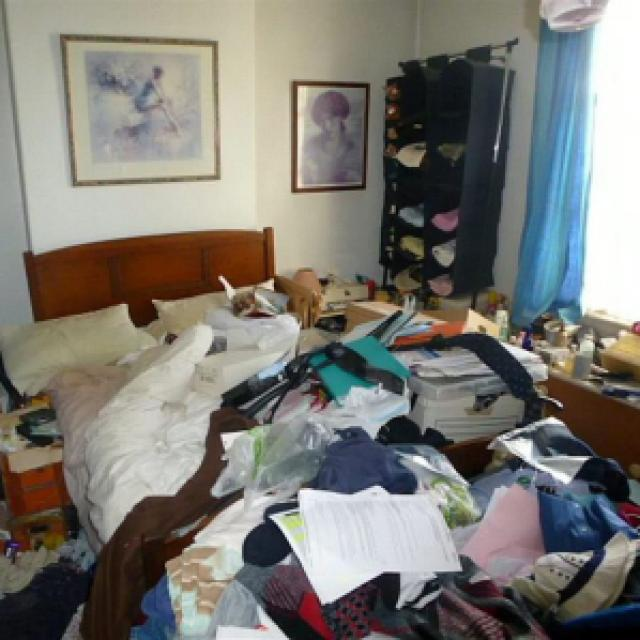scattered-items: (199, 330, 640, 638)
